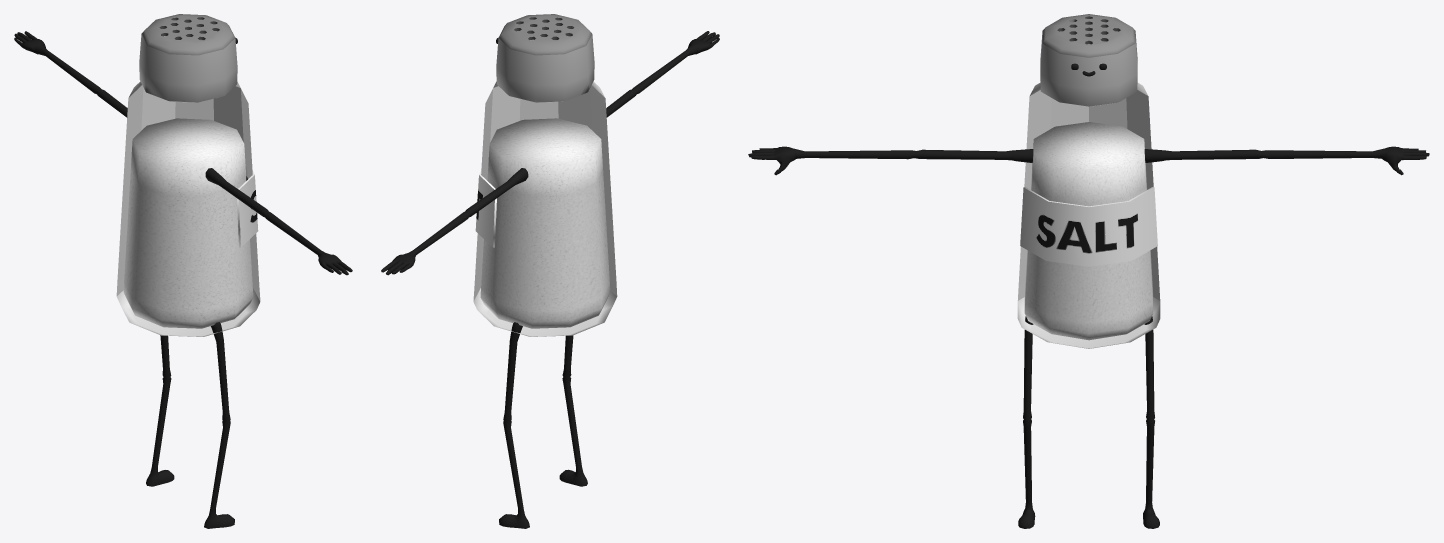
Rendered from Salty Salt.glb.
The picture shows the model from 3 angles, left to right: view 1: azimuth 30°, elevation 25°; view 2: azimuth 150°, elevation 25°; view 3: azimuth 270°, elevation 25°; orthographic projection. The views are drawn at different scales.
Parts seen in each view (by area): view 1: _100Avatars_132_SaltySalt; view 2: _100Avatars_132_SaltySalt; view 3: _100Avatars_132_SaltySalt.
Part boxes in pixels (left/top/right/bottom): _100Avatars_132_SaltySalt: left=14, top=14, right=352, bottom=528; _100Avatars_132_SaltySalt: left=381, top=14, right=719, bottom=528; _100Avatars_132_SaltySalt: left=748, top=14, right=1429, bottom=528.
Size of the model in its own units: 0.8787 by 3.18 by 4.
1 material, 1 textured.
